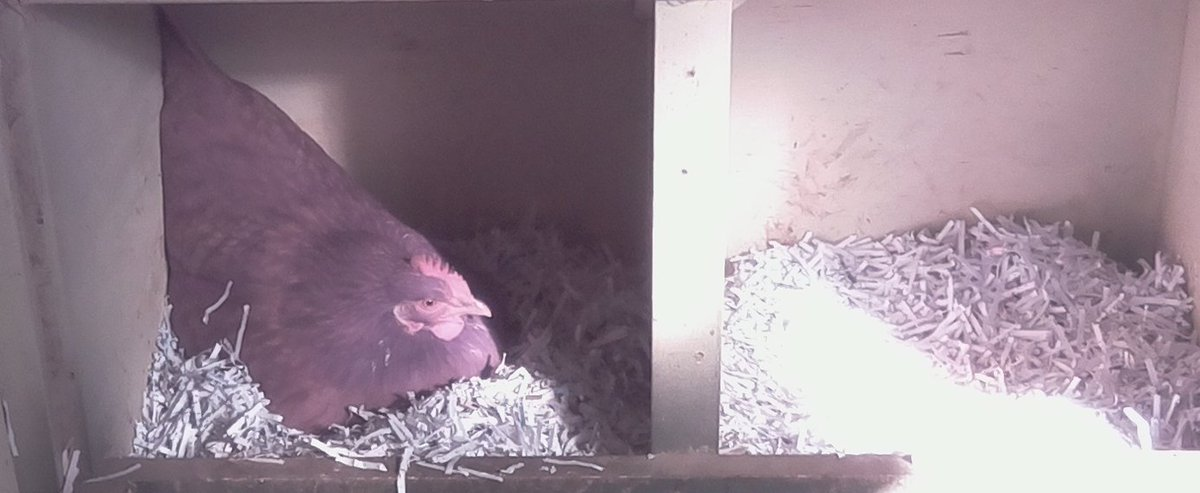hen: (150, 12, 511, 433)
